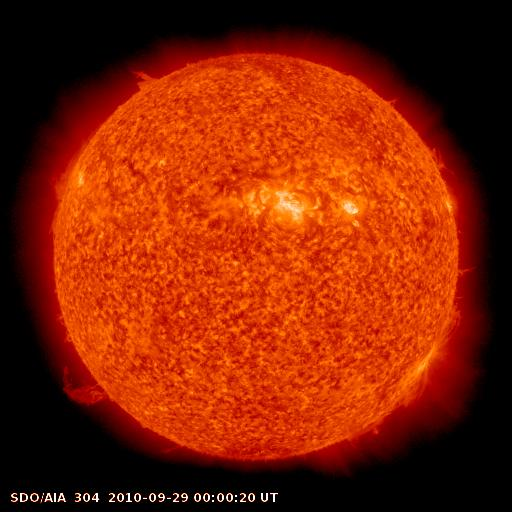prominence: (40, 328, 118, 412), (46, 144, 86, 208), (123, 57, 174, 102), (431, 297, 471, 353), (148, 427, 201, 467), (343, 417, 390, 458), (423, 132, 460, 181), (396, 365, 428, 416), (368, 85, 417, 117), (449, 255, 488, 286)
